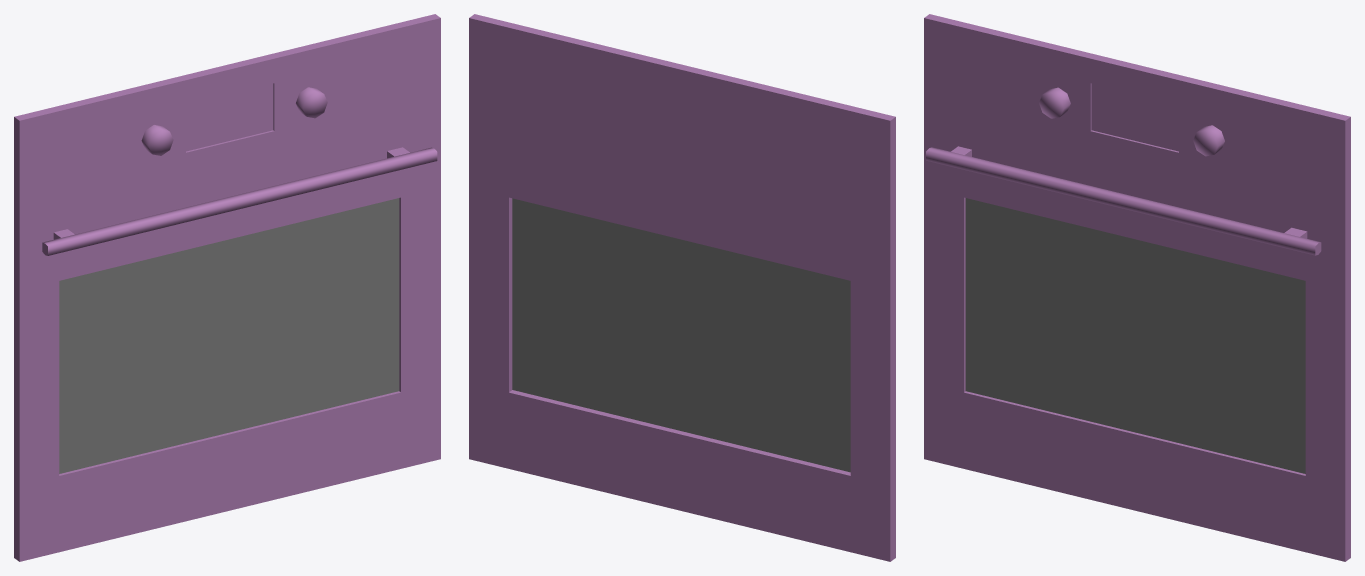
The model's file is PorteFourCuisine.fbx.
The picture shows the model from 3 angles, left to right: view 1: azimuth 30°, elevation 25°; view 2: azimuth 150°, elevation 25°; view 3: azimuth 330°, elevation 25°; orthographic projection.
Visible parts, largest first — view 1: PorteFourCuisine; view 2: PorteFourCuisine; view 3: PorteFourCuisine.
Boxes of the visible parts, x1,y1,x2,y2 form: PorteFourCuisine: (14,14,440,561); PorteFourCuisine: (469,14,895,561); PorteFourCuisine: (924,14,1350,561).
Bounding box in the file's own units: 71.85 × 71.89 × 5.54.
